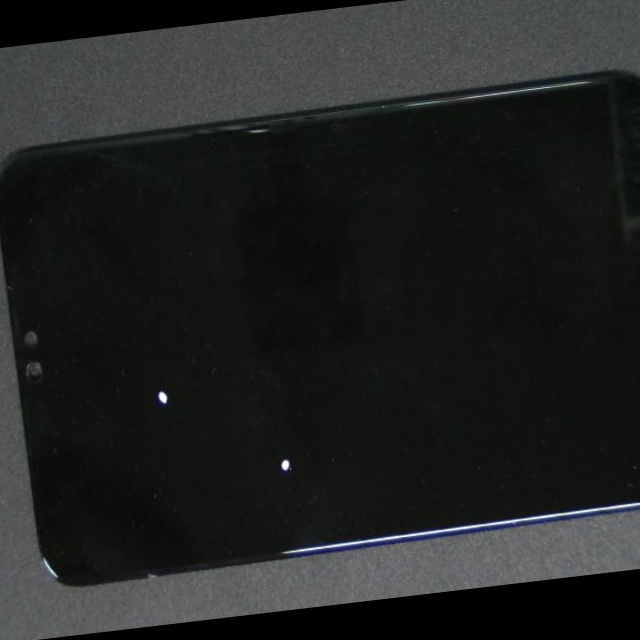stain: (84, 202, 431, 629), (31, 183, 269, 606)
